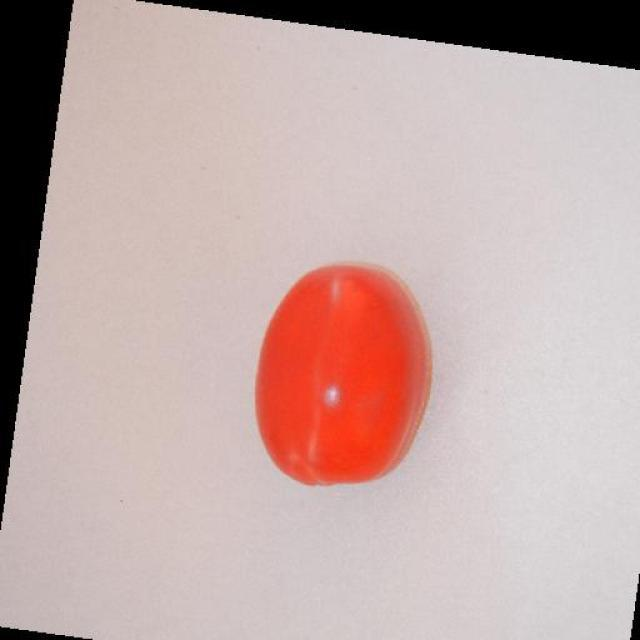Fresh Tomato: (243, 242, 447, 516)
